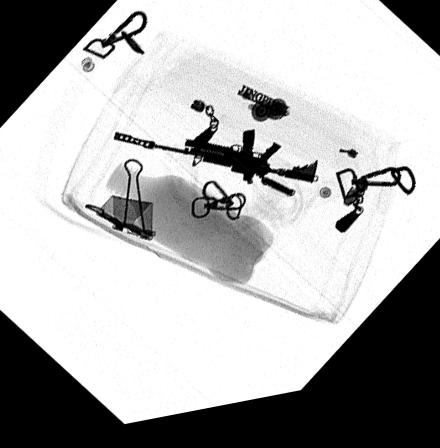Gun: (114, 135, 318, 195)
